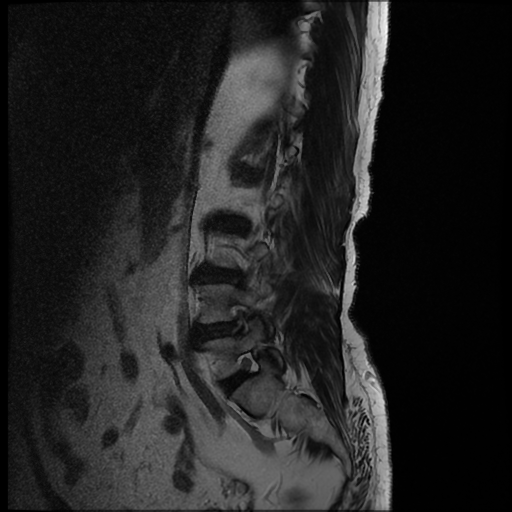RFS0: (231, 343, 273, 387)
